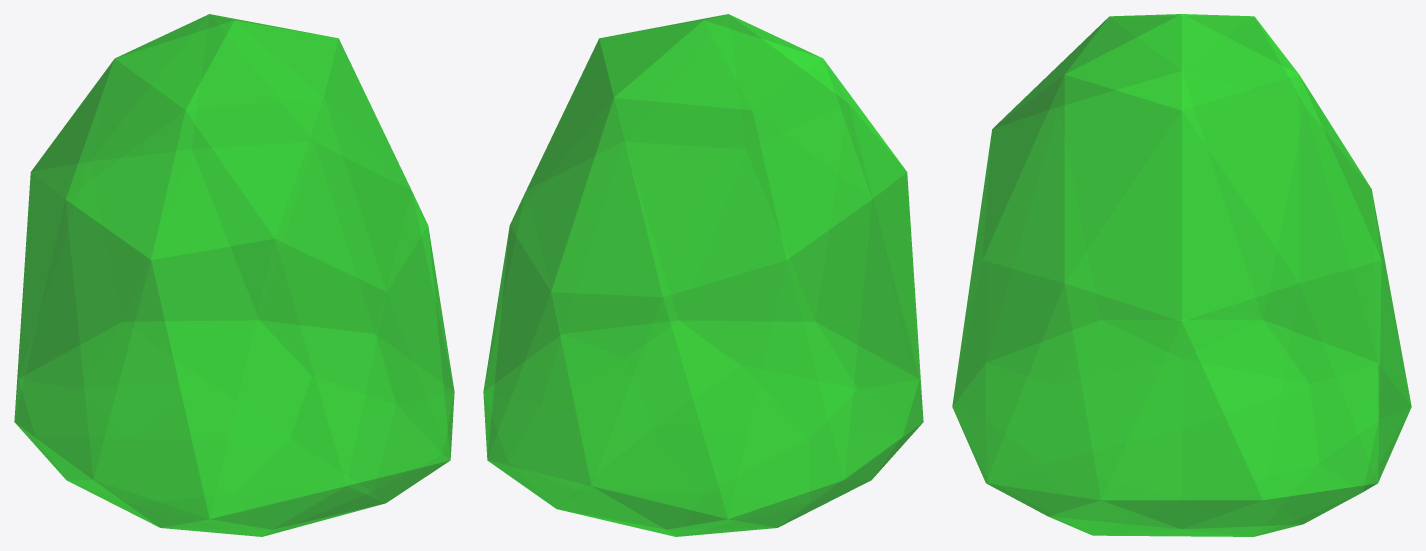
Rendered from Baies_buisson (1).fbx.
3 views of the same model, side by side, from view 1: azimuth 30°, elevation 25°; view 2: azimuth 150°, elevation 25°; view 3: azimuth 270°, elevation 25° (orthographic). The views are drawn at different scales.
Parts seen in each view (by area): view 1: Bush Berry; view 2: Bush Berry; view 3: Bush Berry.
Boxes of the visible parts, left/top/right/bottom form: Bush Berry: left=14, top=14, right=454, bottom=536; Bush Berry: left=483, top=14, right=923, bottom=536; Bush Berry: left=952, top=14, right=1411, bottom=536.
Bounding box in the file's own units: 182 × 228 × 196.
